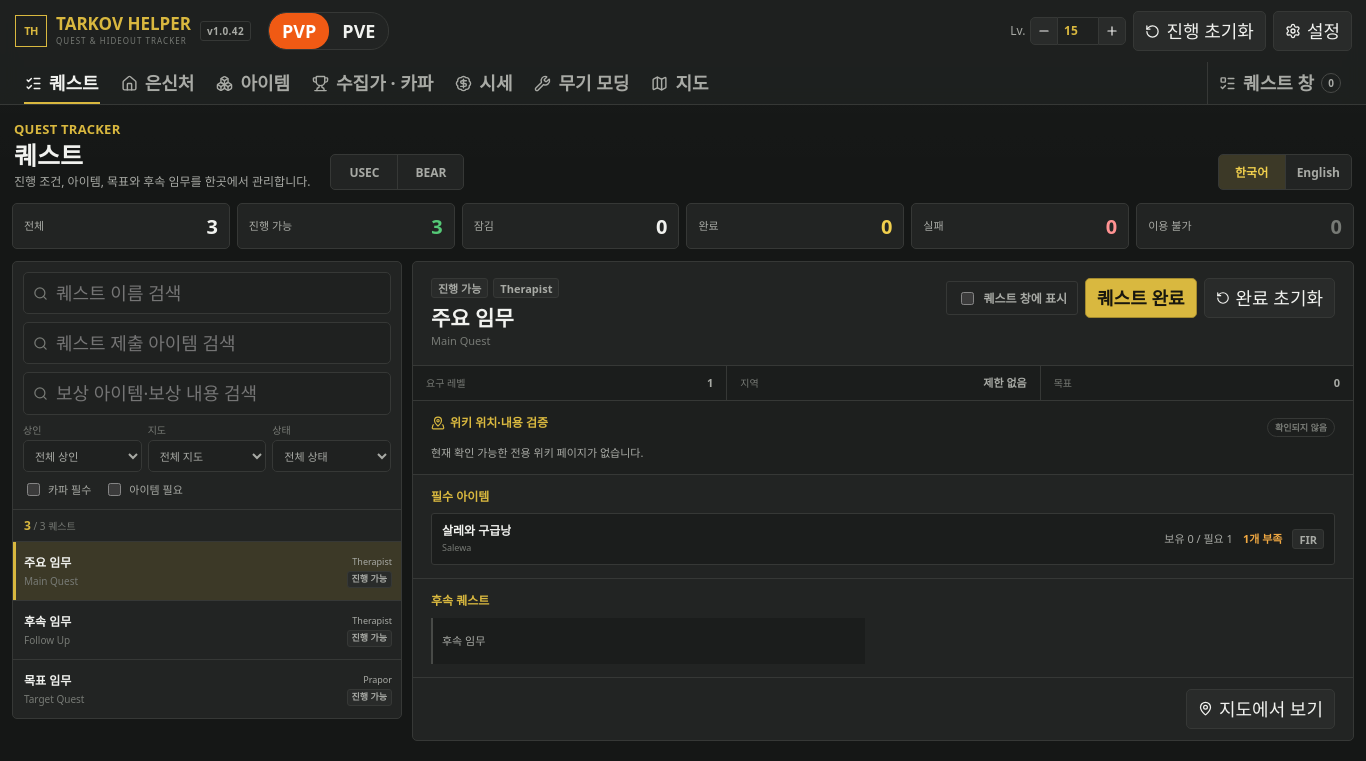
Test: App related navigation › switches to Items and focuses a required item
This screenshot has width=1366, height=761.
Click the button "살레와 구급낭 Salewa": [477, 539] box [442,522,511,556]
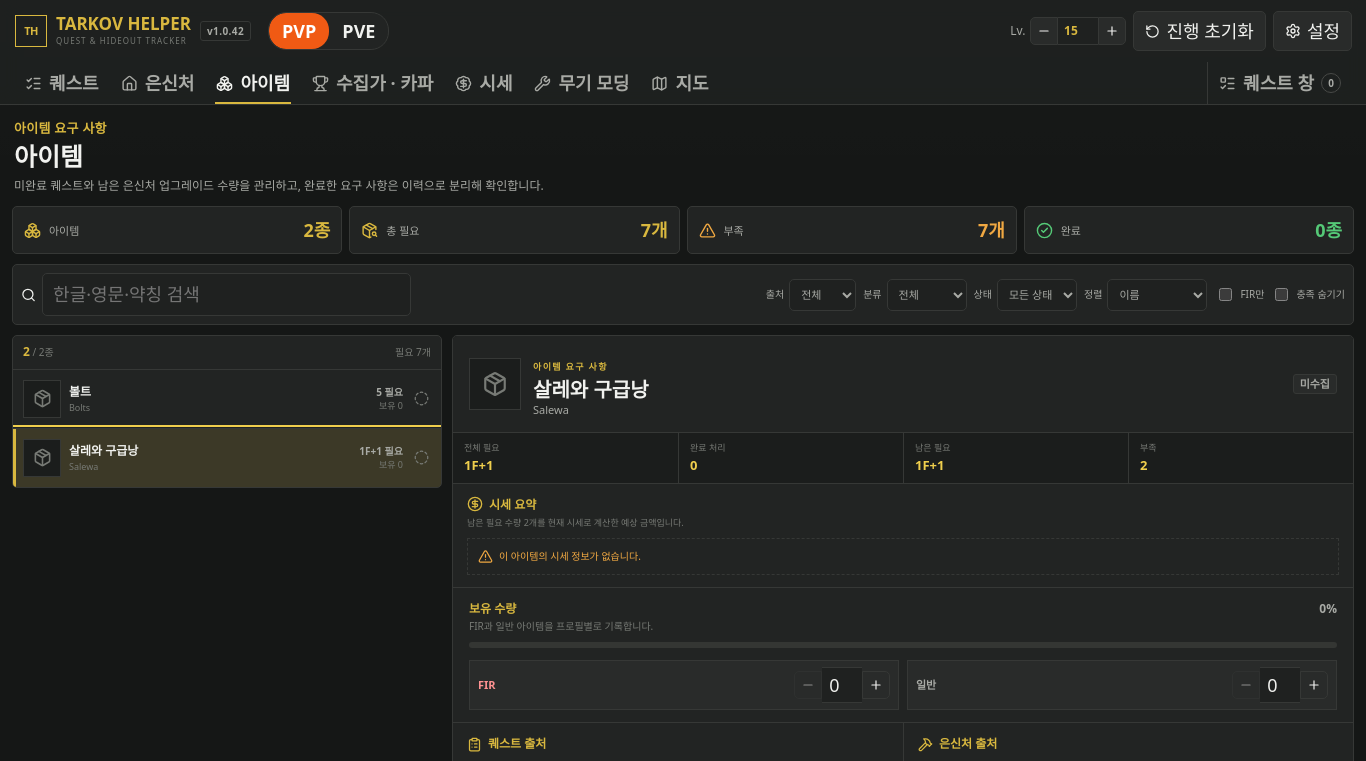
expect the heading "살레와 구급낭" is shown: met, box [533,376,649,403]
